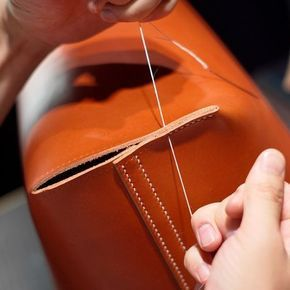cuero: (17, 1, 290, 290)
